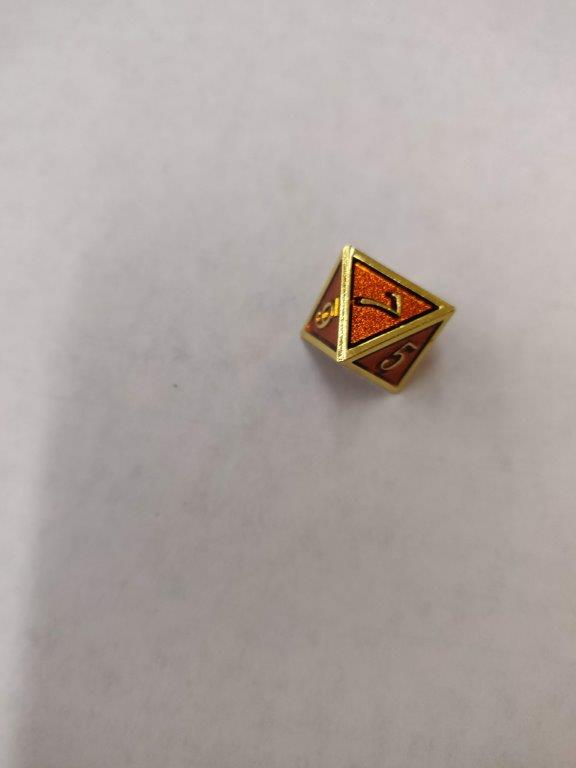d8-7: (297, 245, 456, 401)
